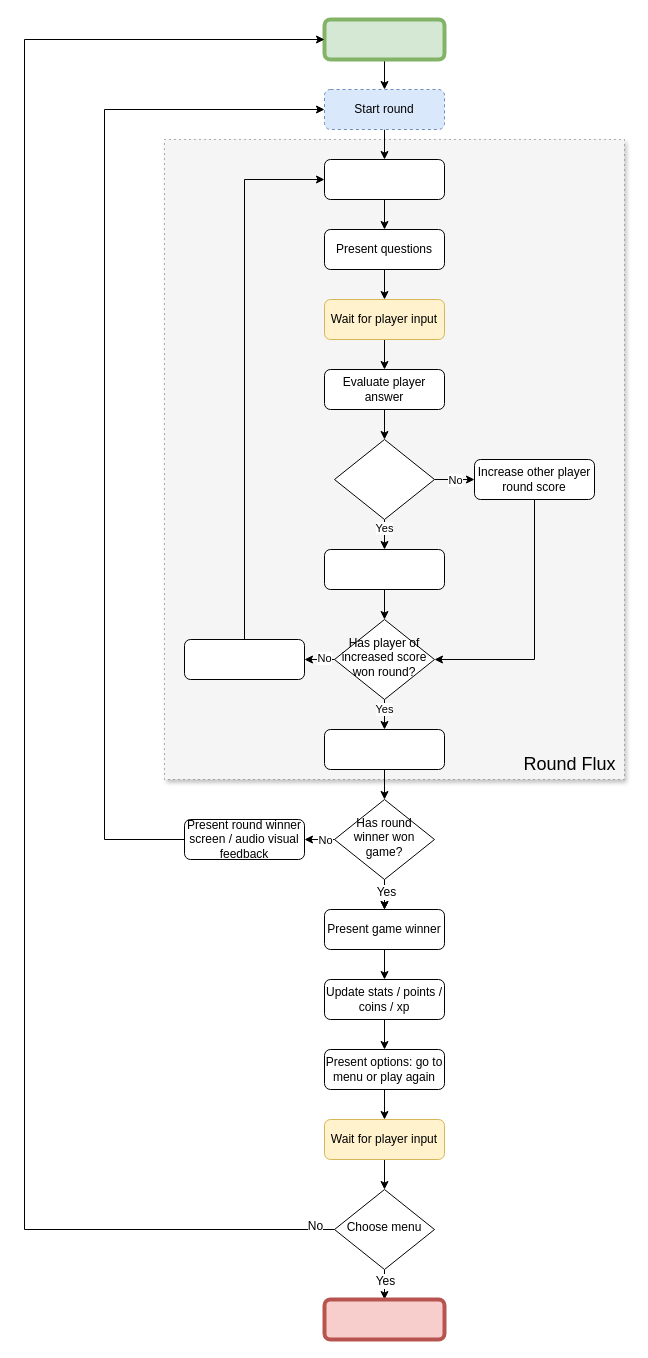
Image size: 648x1358. Some labels were removed from this diagram. The centre of each missing label's shape, as x and y in pixels:
"Give audio / visual feedback (correct / wrong answer)" goes at (244,659).
"Go to menu" goes at (384,1319).
"Increase round winner game score" goes at (384,749).
"Increase this player round score" goes at (384,569).
"Is answer correct?" goes at (384,479).
"Prepare questions" goes at (384,179).
"Start game" goes at (384,39).
